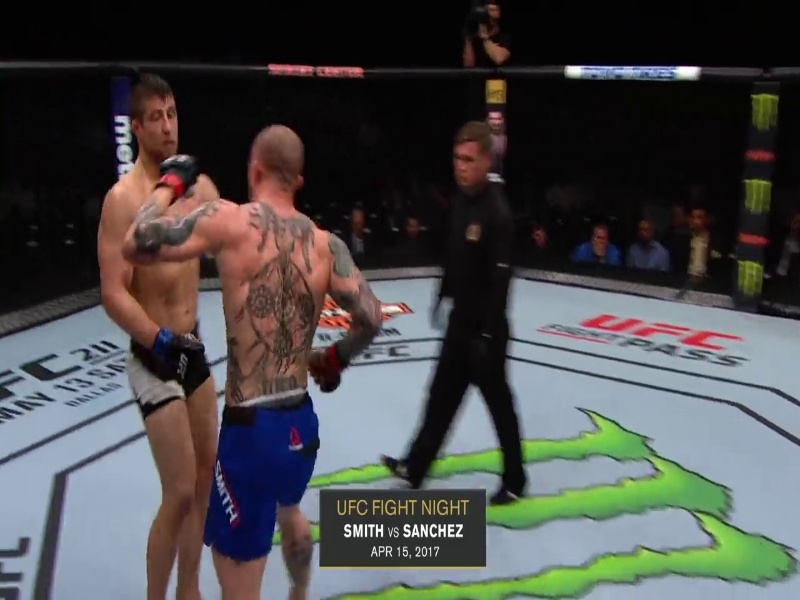fighter: (116, 121, 372, 600), (95, 75, 226, 600)
